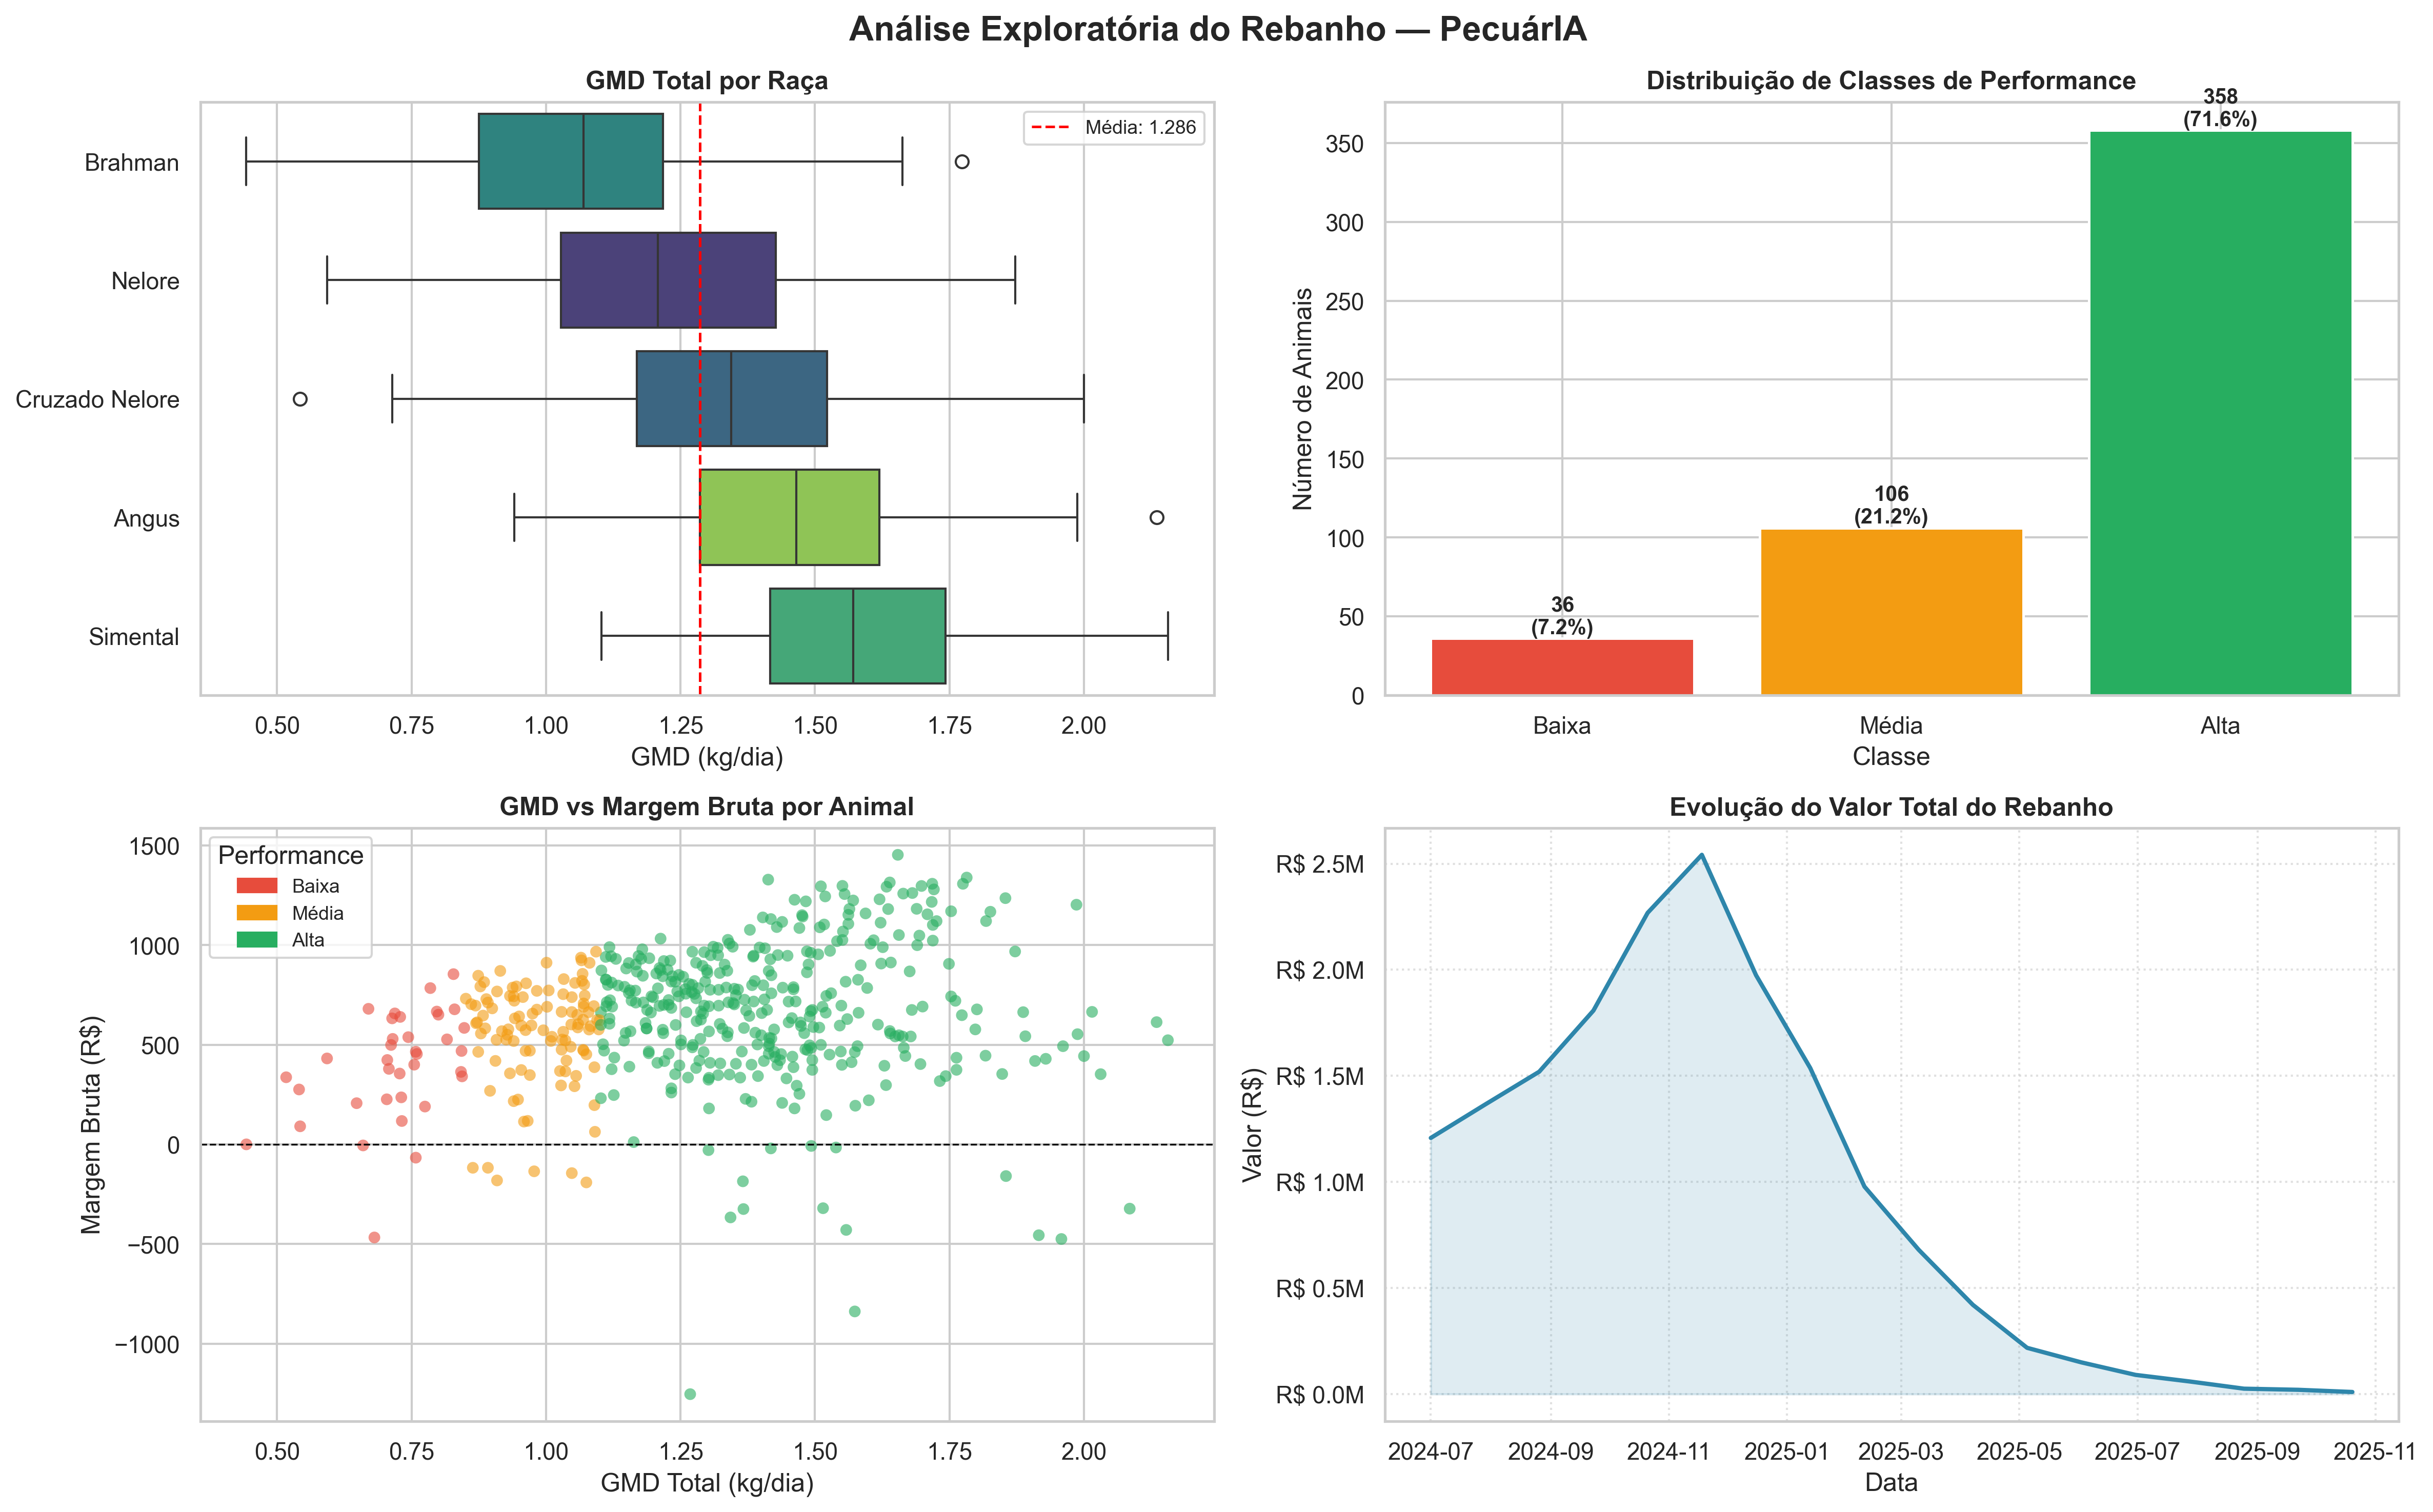

This screenshot's page, from the dashboard's own definition file:
{"tool":"powerbi","page":{"name":"Performance Animal","canvas":[1280,720],"ordinal":1},"visuals":[{"type":"textbox","box":[10,7,1258,60],"z":0},{"type":"cardVisual","fields":{"Data":["Sum(vw_resumo_rebanho.gmd_medio)","Sum(vw_performance_por_cluster.ca_media)","Sum(vw_performance_por_cluster.custo_kg_medio)","Sum(vw_resumo_rebanho.margem_total)"]},"box":[10,74,1258,150],"z":1000},{"type":"scatterChart","fields":{"X":["Sum(performance_com_clusters.gmd_total)"],"Y":["Sum(performance_com_clusters.margem_bruta_rs)"],"Series":["performance_com_clusters.cluster_nome"],"Size":["Sum(performance_com_clusters.valor_mercado_rs)"]},"box":[10.7,223.7,1256.7,239.3],"z":2000},{"type":"clusteredBarChart","fields":{"Category":["vw_performance_por_raca.raca"],"Y":["Sum(performance_com_clusters.conversao_alimentar)"]},"box":[9.7,478.5,621.5,221.8],"z":3000},{"type":"tableEx","fields":{"Values":["performance_com_clusters.brinco","performance_com_clusters.raca","performance_com_clusters.lote","performance_com_clusters.gmd_total","performance_com_clusters.conversao_alimentar","performance_com_clusters.margem_bruta_rs"]},"box":[646.8,478.5,621.5,221.8],"z":4000}]}

Visuals, with their boxes on the page's 1280x720 design canvas (x1, y1, x2, y2). These are canvas units, not pixel positions in the 2433x1512 screenshot, which may show the page scaled, cropped or inside an application window:
textbox: region(10, 7, 1268, 67)
cardVisual - Sum(vw_resumo_rebanho.gmd_medio) x Sum(vw_performance_por_cluster.ca_media): region(10, 74, 1268, 224)
scatterChart - Sum(performance_com_clusters.gmd_total) x Sum(performance_com_clusters.margem_bruta_rs): region(11, 224, 1267, 463)
clusteredBarChart - vw_performance_por_raca.raca x Sum(performance_com_clusters.conversao_alimentar): region(10, 478, 631, 700)
tableEx - performance_com_clusters.brinco x performance_com_clusters.raca: region(647, 478, 1268, 700)
